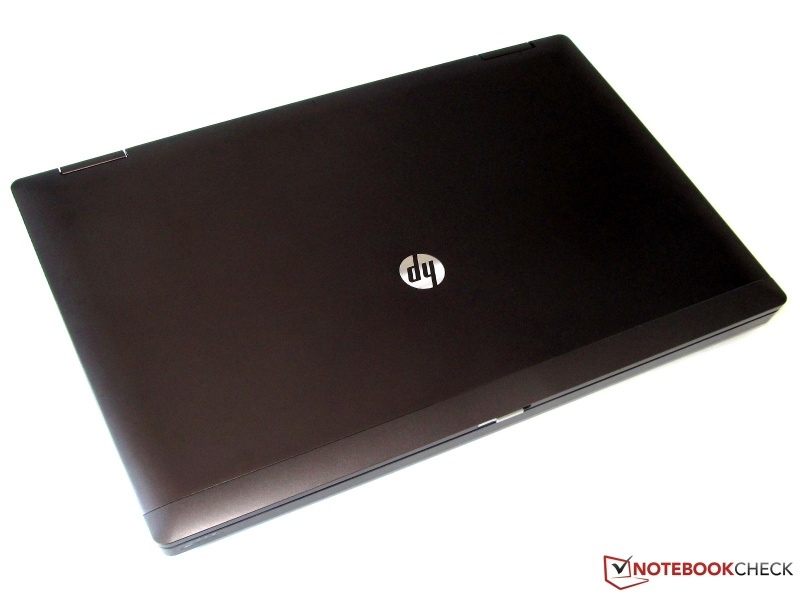hp: (399, 246, 443, 292)
